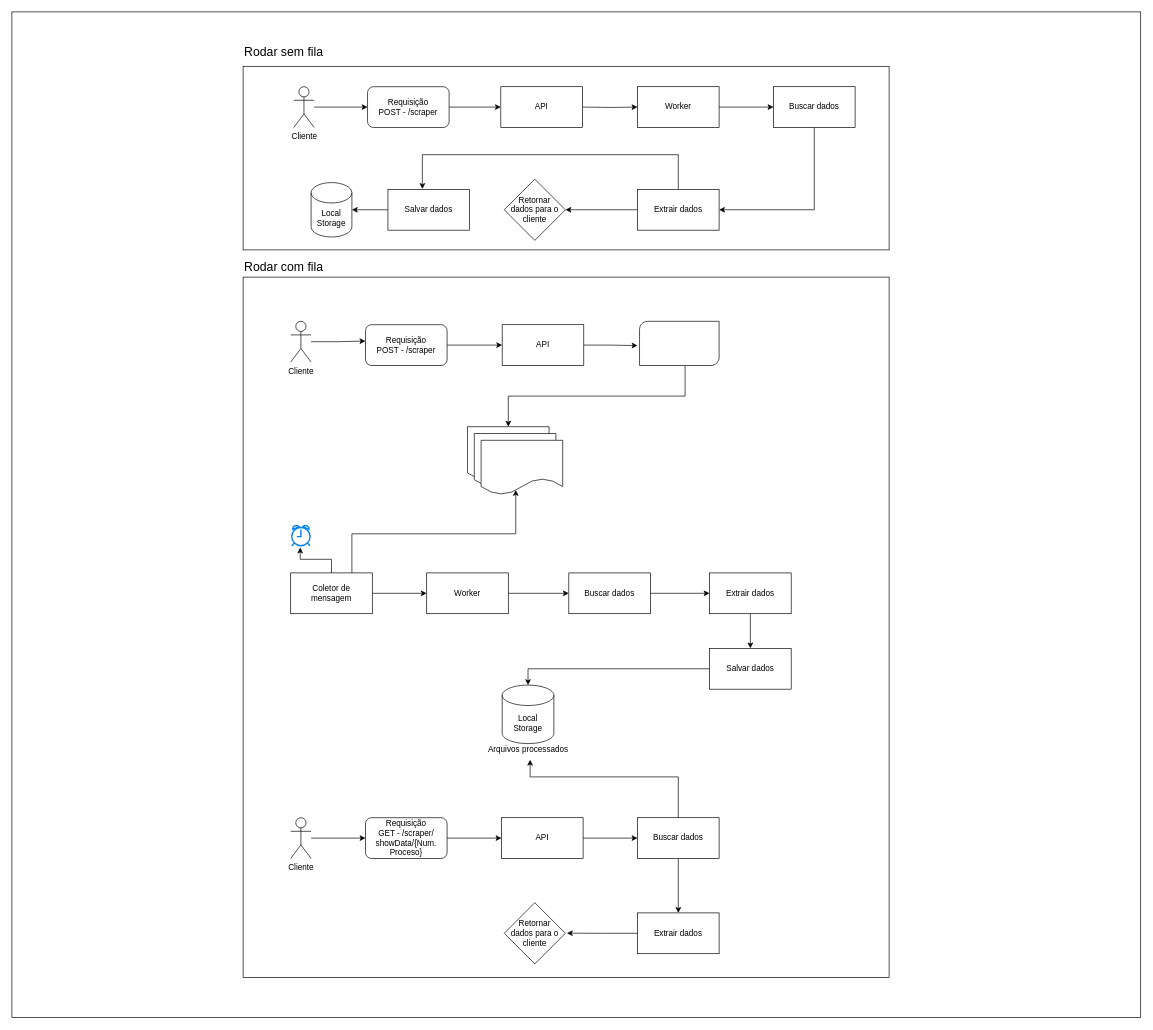
Image size: 1153x1030. Some labels were removed from this diagram. The box of each missing label's shape, as (x1, y1, x2, y2) in pixels:
Fila: (480, 440, 563, 495)
Número do processo: (639, 321, 719, 366)
